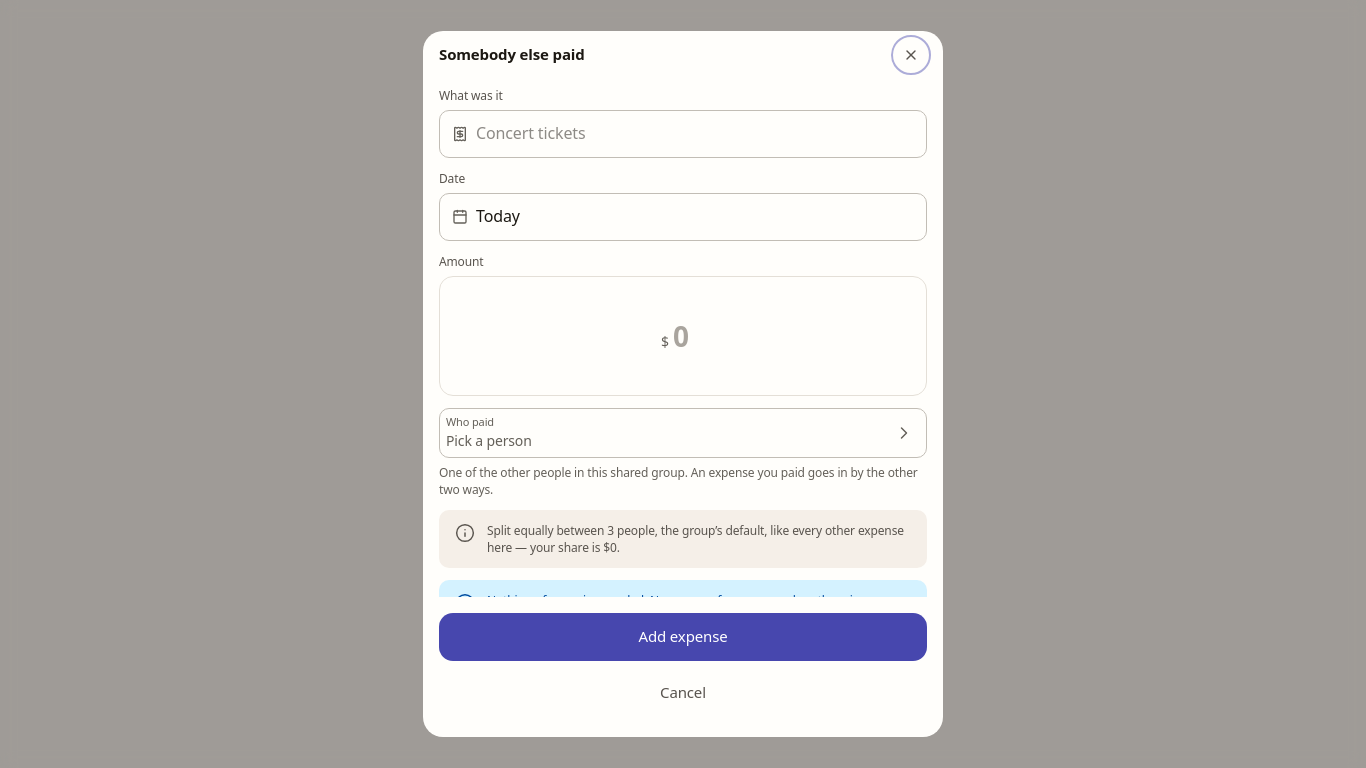
recording a line somebody else paid › says your share of it as soon as there is an amount to split
Expected: the text "your share is $0" is shown, [487, 522, 904, 556]
Type "90000" into the field labelled "Amount".
click(689, 336); type("90000")  # box [673, 317, 705, 355]
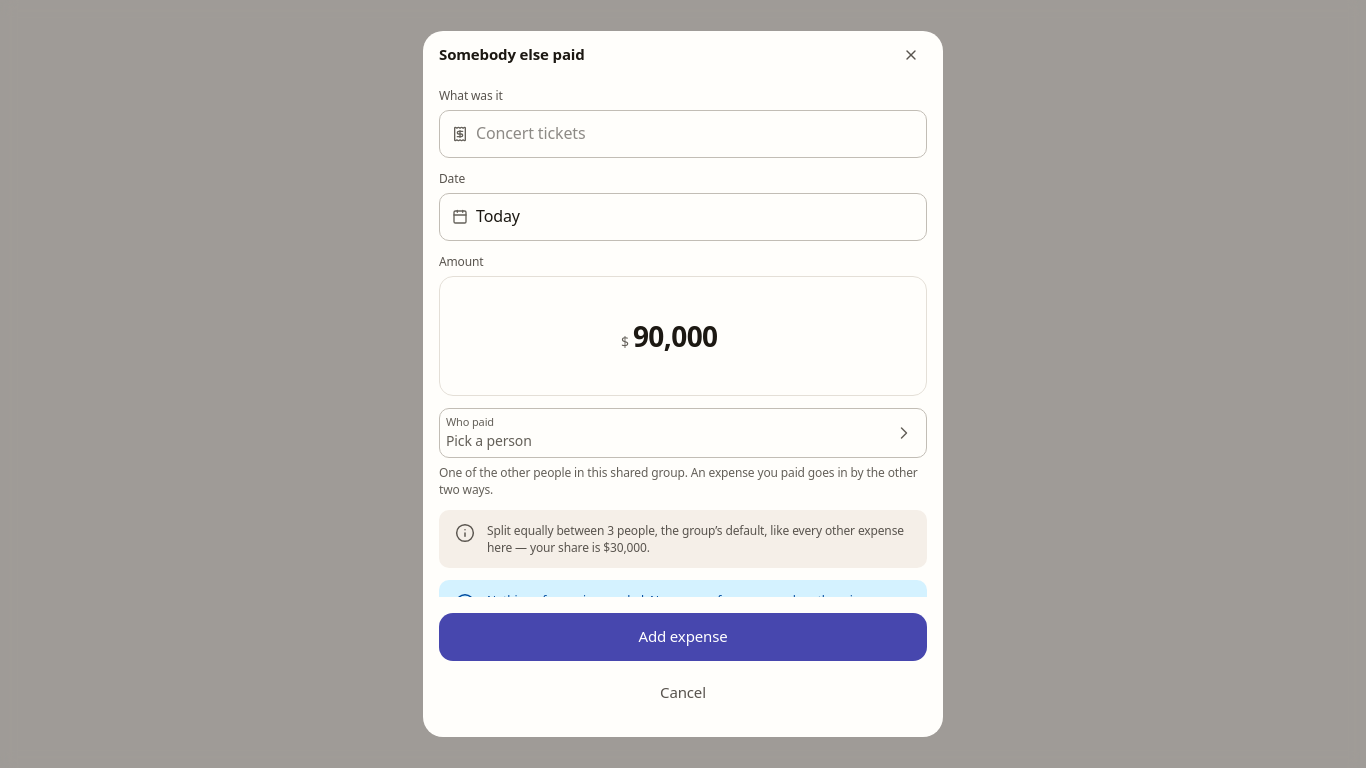
Result: the text "your share is $30,000" is shown at [487, 522, 904, 556]
